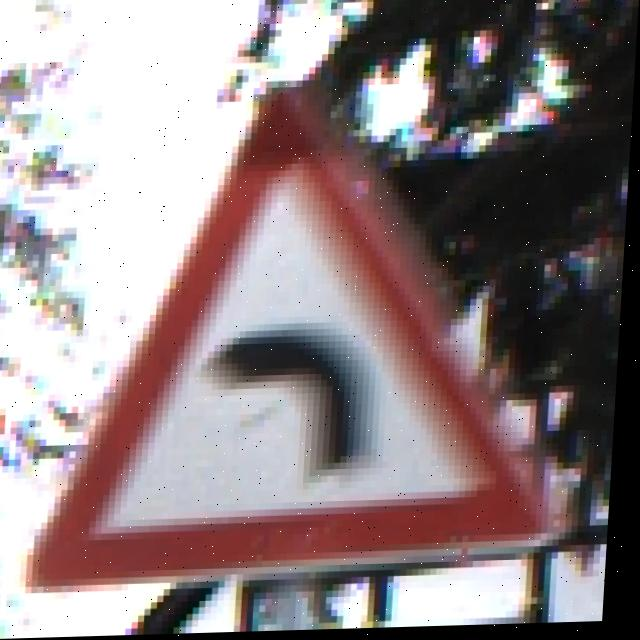left_turn: (13, 145, 588, 594)
